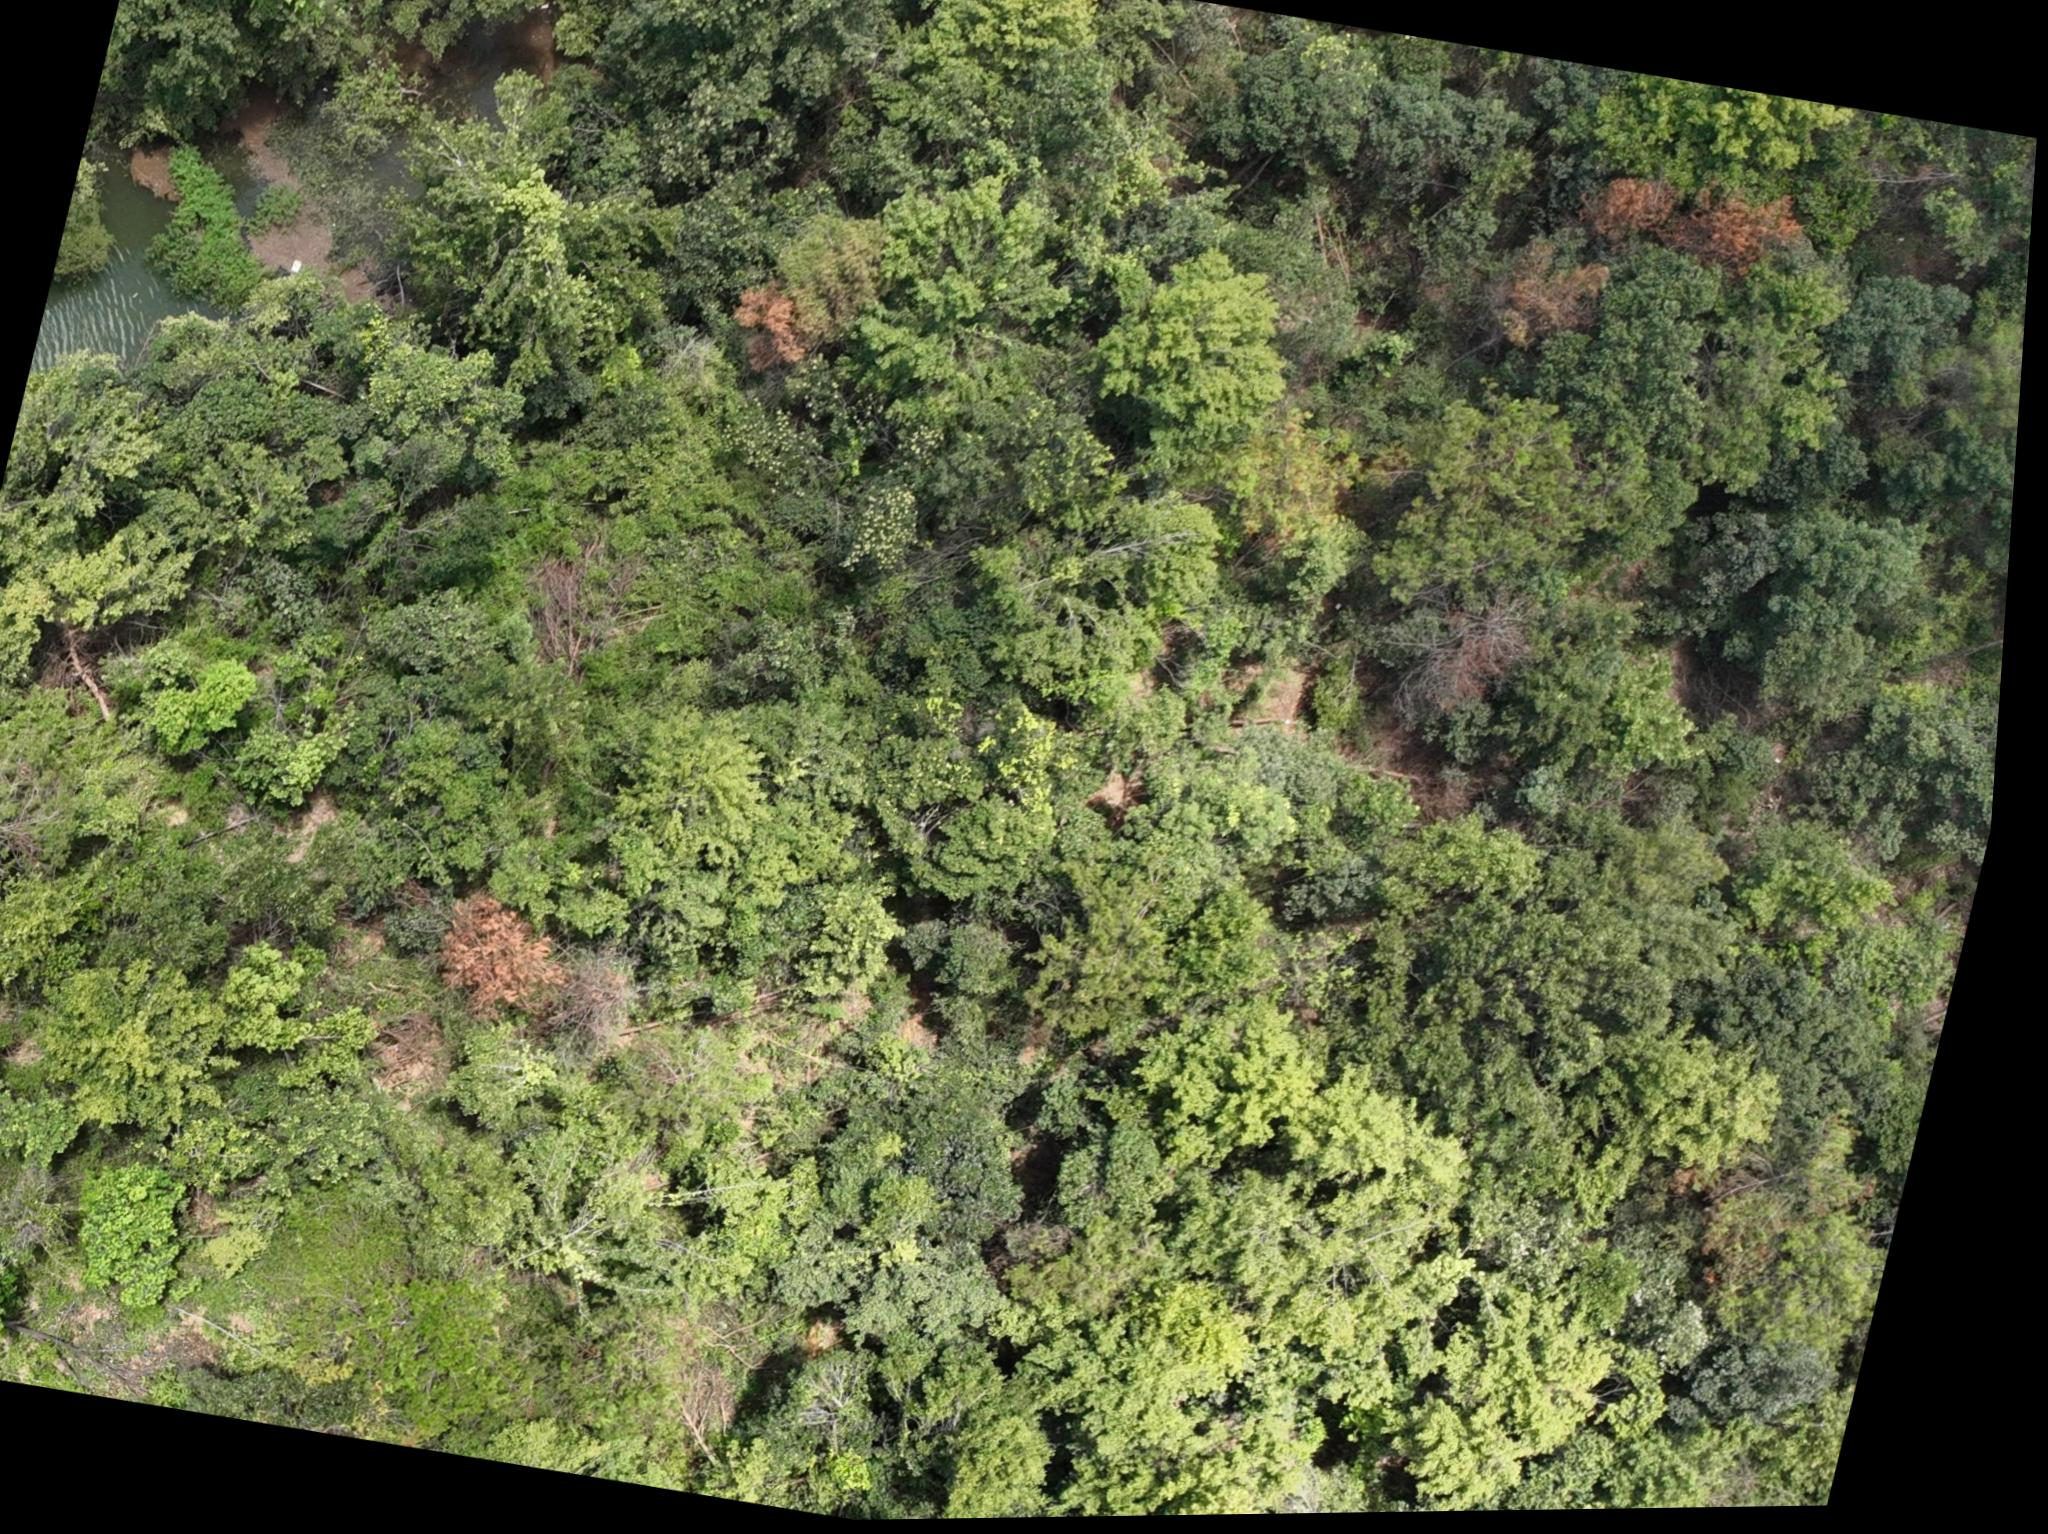heavy: (1582, 168, 1811, 301), (425, 880, 596, 1041), (719, 272, 830, 392)
